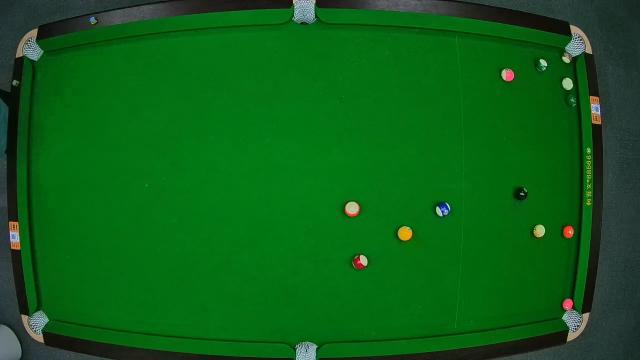bag1: (22, 38, 44, 60)
bag2: (291, 0, 317, 26)
bag3: (566, 29, 588, 57)
bag4: (29, 310, 49, 334)
bag5: (294, 340, 318, 360)
bag6: (563, 308, 585, 332)
ball0: (560, 75, 576, 91)
ball1: (398, 226, 412, 242)
ball10: (435, 202, 451, 218)
ball11: (353, 255, 367, 269)
ball12: (501, 66, 514, 82)
ball13: (344, 200, 361, 218)
ball14: (536, 59, 548, 73)
ball15: (560, 52, 574, 66)
ball4: (561, 298, 575, 312)
ball5: (564, 224, 576, 240)
ball6: (564, 95, 578, 107)
ball8: (514, 186, 530, 202)
ball9: (534, 225, 546, 239)
